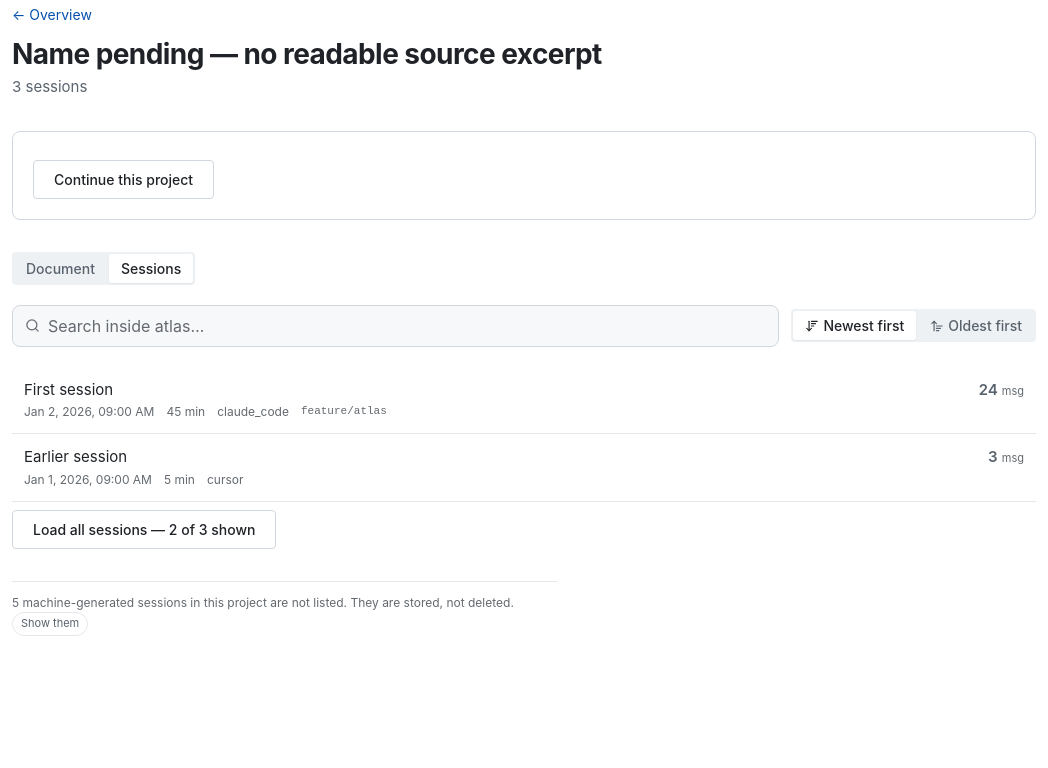
ProjectPage › discards an old session page after the sort order changes
Check: the link "First session" is shown, box [12,366,1036,434]
Click the button "Load all sessions — 2 of 3 shown" at coordinates (144, 529), box [12,510,276,548]
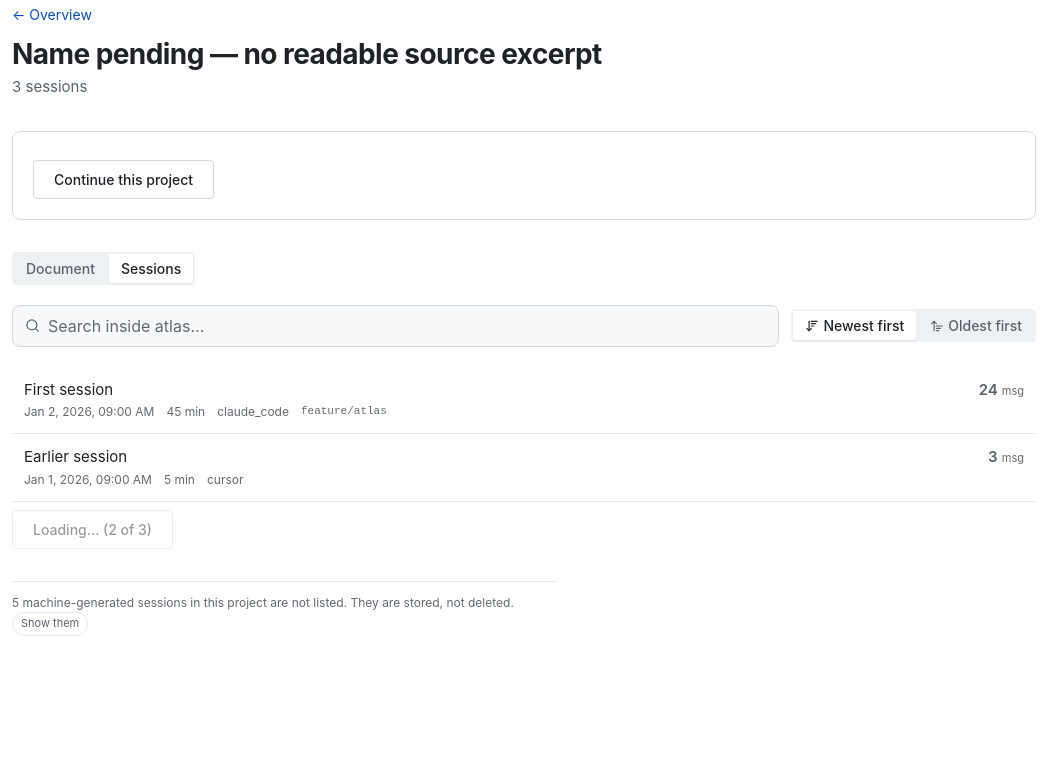
Click the button "Oldest first" at coordinates (976, 326), box [918,311,1034,340]
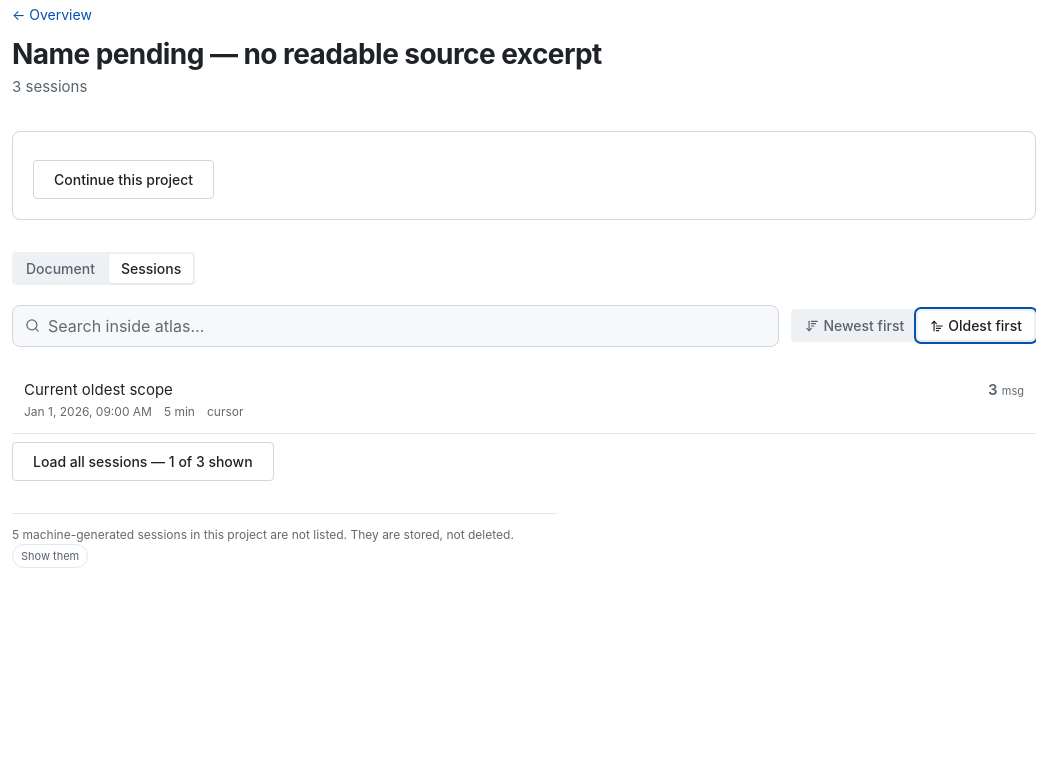
Check: the link "Current oldest scope Jan 1, 2026, 09:00 AM 5 min cursor 3msg" is shown, box [12,366,1036,434]
